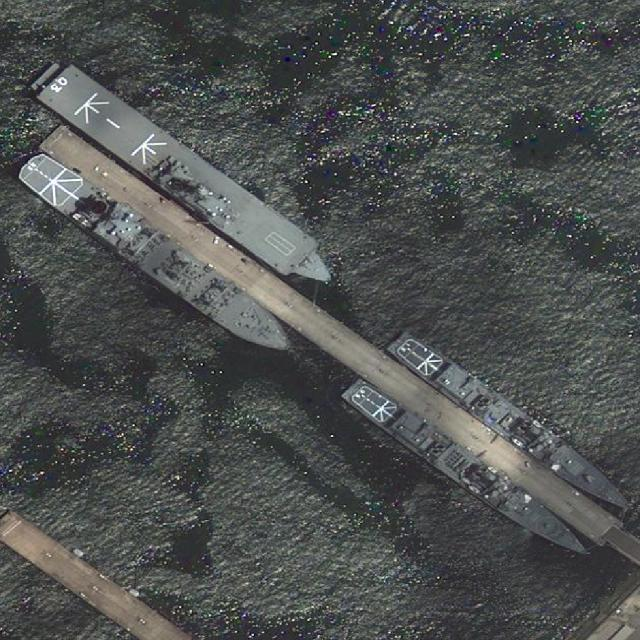Auxiliary Ships: (16, 145, 298, 365)
Destroyer: (340, 371, 596, 570), (383, 323, 639, 516)
Landing: (27, 54, 346, 299)
